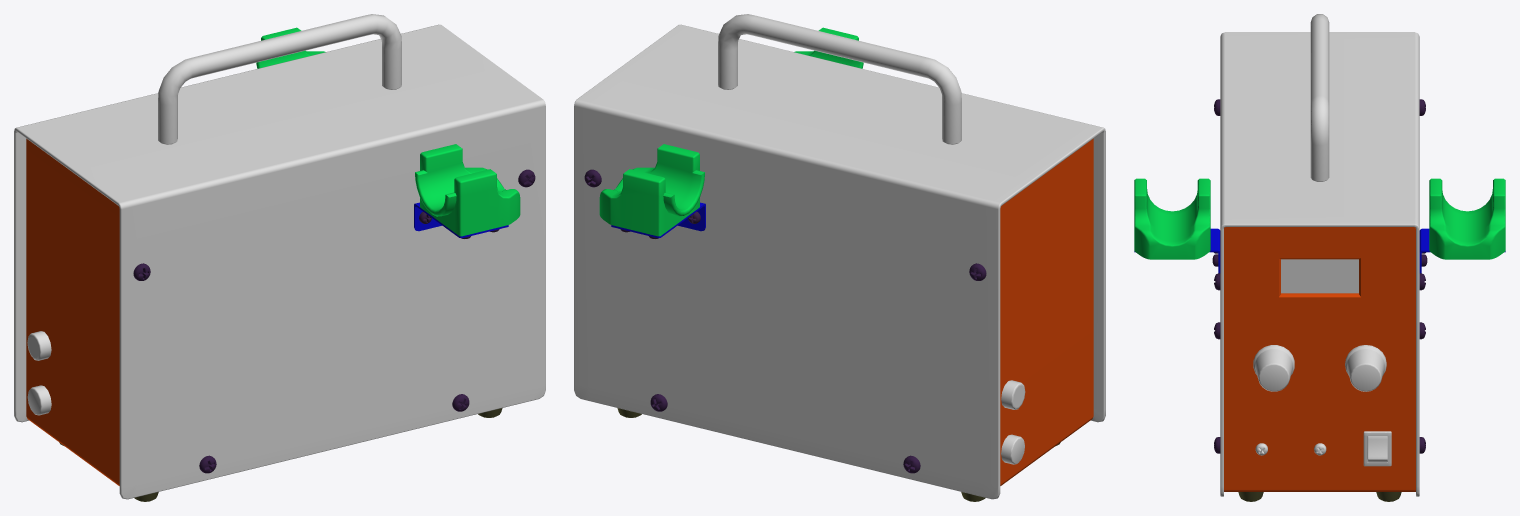
File: Термовоздушная станция.fbx
3 views of the same model, side by side, from view 1: azimuth 30°, elevation 25°; view 2: azimuth 150°, elevation 25°; view 3: azimuth 270°, elevation 25° (orthographic). The views are drawn at different scales.
Parts seen in each view (by area): view 1: Korpus_termo_stancia, Holder_left, Holder_right, Power_cable_holder, Back_element; view 2: Korpus_termo_stancia, Holder_right, Holder_left, Power_cable_holder, Back_element; view 3: Korpus_termo_stancia, Holder_right, Holder_left, Screen, Temperature_regulyator, Wind_regulyator, Ramka_ON_and_OFF, Kacheli_switcher.
Boxes of the visible parts, x1,y1,x2,y2 form: Korpus_termo_stancia: (14, 14, 545, 501); Holder_left: (414, 144, 520, 238); Holder_right: (256, 27, 325, 68); Power_cable_holder: (27, 385, 51, 415); Back_element: (27, 331, 51, 360); Korpus_termo_stancia: (574, 14, 1105, 501); Holder_right: (599, 144, 705, 238); Holder_left: (794, 27, 863, 68); Power_cable_holder: (1001, 434, 1024, 464); Back_element: (1001, 380, 1025, 409); Korpus_termo_stancia: (1214, 14, 1425, 501); Holder_right: (1419, 178, 1505, 273); Holder_left: (1134, 178, 1220, 273); Screen: (1281, 259, 1358, 293); Temperature_regulyator: (1345, 345, 1386, 391); Wind_regulyator: (1253, 345, 1294, 391); Ramka_ON_and_OFF: (1363, 431, 1391, 466); Kacheli_switcher: (1367, 436, 1387, 462).
Size of the model in its own units: 25.17 by 21.09 by 19.56.
